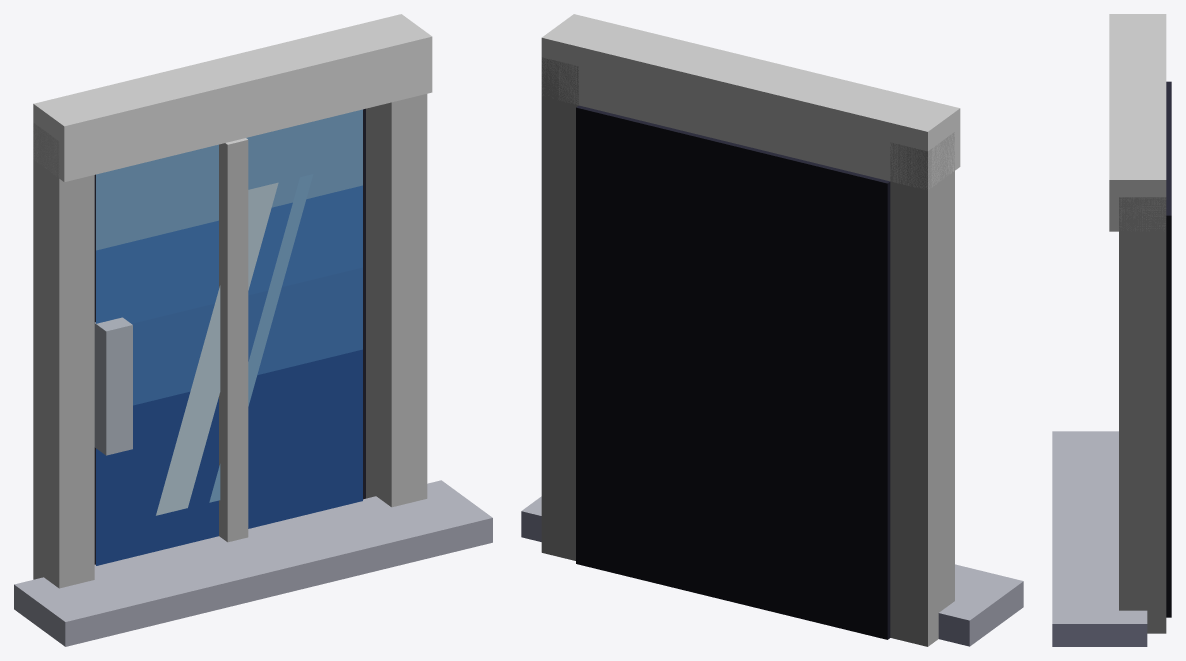
File: bld_glassdoor.glb
The picture shows the model from 3 angles, left to right: view 1: azimuth 30°, elevation 25°; view 2: azimuth 150°, elevation 25°; view 3: azimuth 270°, elevation 25°; orthographic projection. The views are drawn at different scales.
Visible parts, largest first — view 1: bld_glassdoor; view 2: bld_glassdoor; view 3: bld_glassdoor.
Part boxes in pixels (x1,y1,x2,y2): bld_glassdoor: (14, 14, 492, 646); bld_glassdoor: (521, 14, 1023, 646); bld_glassdoor: (1052, 14, 1171, 646).
Size of the model in its own units: 0.9 by 0.9875 by 0.235.
